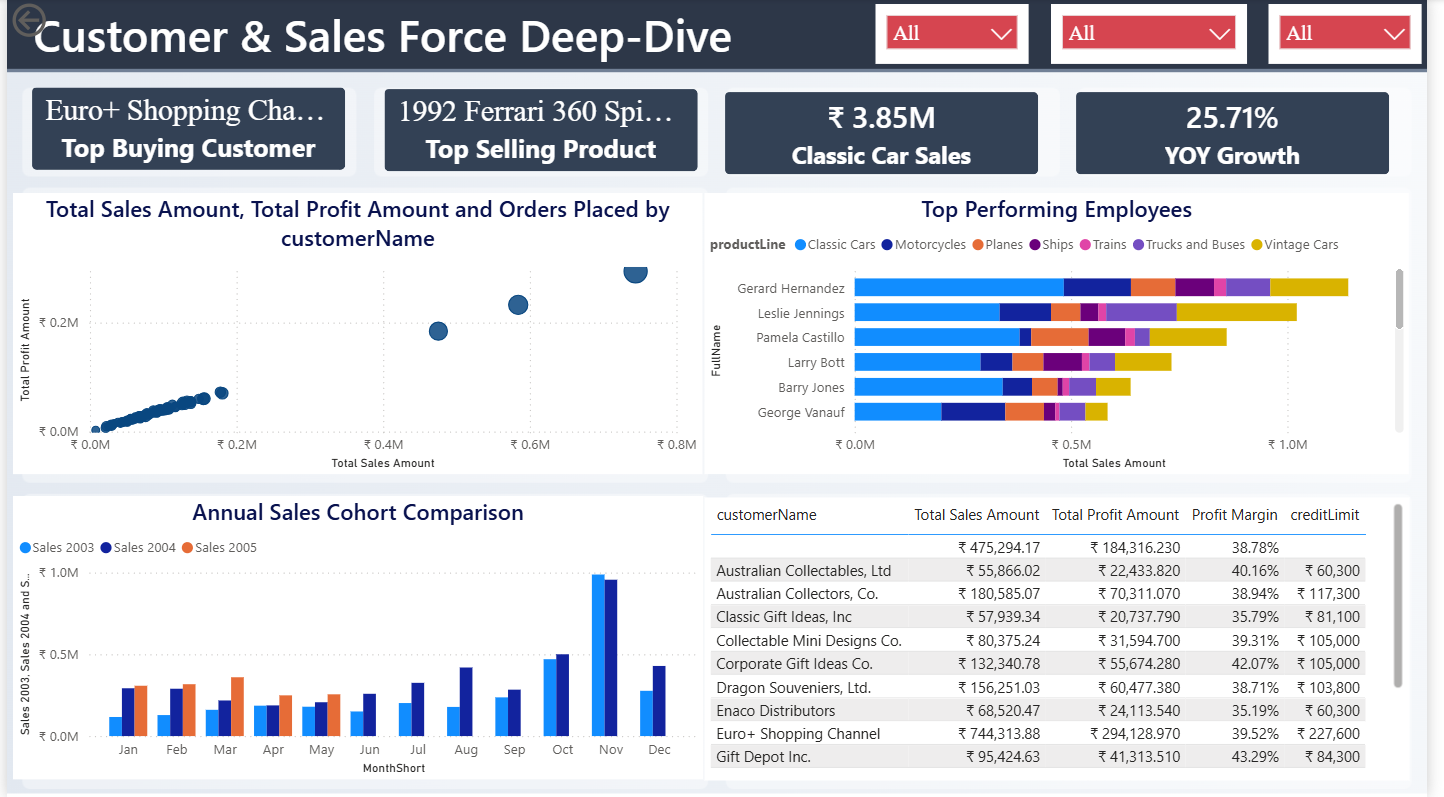

Layout of this report page (visuals, bound fields, positions):
{"tool":"powerbi","page":{"name":"Page 5","canvas":[1280,720],"ordinal":1},"visuals":[{"type":"textbox","title":"Customer & Sales Force Deep-Dive","box":[19.3,5.3,877.3,61.3],"z":0},{"type":"slicer","fields":{"Values":["DimDate.Year"]},"box":[782.7,5.3,138.3,54.3],"z":1000},{"type":"slicer","fields":{"Values":["offices.territory"]},"box":[940.3,5.3,176.9,54.3],"z":2000},{"type":"slicer","fields":{"Values":["orders.status"]},"box":[1136.4,5.3,138.3,54.3],"z":3000},{"type":"cardVisual","fields":{"Data":["_Measures.Top Buying Customer"]},"box":[5.3,63,316.9,108.6],"z":4000},{"type":"cardVisual","fields":{"Data":["_Measures.Top Selling Product"]},"box":[322.6,64.8,316.8,108],"z":5000},{"type":"cardVisual","fields":{"Data":["_Measures.Classic Car Sales"]},"box":[629.3,67.7,316.8,108],"z":6000},{"type":"cardVisual","fields":{"Data":["_Measures.YOY Growth"]},"box":[946.1,67.7,316.8,108],"z":7000},{"type":"actionButton","box":[0,0,100,40],"z":8000},{"type":"scatterChart","fields":{"X":["_Measures.Total Sales Amount"],"Y":["_Measures.Total Profit Amount"],"Category":["customers.customerName"],"Size":["_Measures.Orders Placed"]},"box":[5,176.4,621.5,253.6],"z":9000},{"type":"barChart","title":"Top Performing Employees","fields":{"Category":["employees.FullName"],"Y":["_Measures.Total Sales Amount"],"Series":["products.productLine"]},"box":[628.2,176.4,635,253.6],"z":10000},{"type":"clusteredColumnChart","title":"Annual Sales Cohort Comparison","fields":{"Y":["_Measures.Sales 2003","_Measures.Sales 2004","_Measures.Sales 2005"],"Category":["DimDate.MonthShort"]},"box":[5,449,622,255],"z":11000},{"type":"tableEx","fields":{"Values":["customers.customerName","_Measures.Total Sales Amount","_Measures.Total Profit Amount","_Measures.Profit Margin","customers.creditLimit"]},"box":[628.4,449.7,634.5,254.4],"z":12000}]}

Visuals, with their boxes in screenshot pixels (x1, y1, x2, y2), scaled from the page's 1280x720 canvas onto the 1444x797 screenshot:
"Customer & Sales Force Deep-Dive" textbox: x1=22, y1=6, x2=1011, y2=74
slicer - DimDate.Year: x1=883, y1=6, x2=1039, y2=66
slicer - offices.territory: x1=1061, y1=6, x2=1260, y2=66
slicer - orders.status: x1=1282, y1=6, x2=1438, y2=66
cardVisual - _Measures.Top Buying Customer: x1=6, y1=70, x2=363, y2=190
cardVisual - _Measures.Top Selling Product: x1=364, y1=72, x2=721, y2=191
cardVisual - _Measures.Classic Car Sales: x1=710, y1=75, x2=1067, y2=194
cardVisual - _Measures.YOY Growth: x1=1067, y1=75, x2=1425, y2=194
actionButton: x1=0, y1=0, x2=113, y2=44
scatterChart - _Measures.Total Sales Amount x _Measures.Total Profit Amount: x1=6, y1=195, x2=707, y2=476
"Top Performing Employees" barChart: x1=709, y1=195, x2=1425, y2=476
"Annual Sales Cohort Comparison" clusteredColumnChart: x1=6, y1=497, x2=707, y2=779
tableEx - customers.customerName x _Measures.Total Sales Amount: x1=709, y1=498, x2=1425, y2=779
